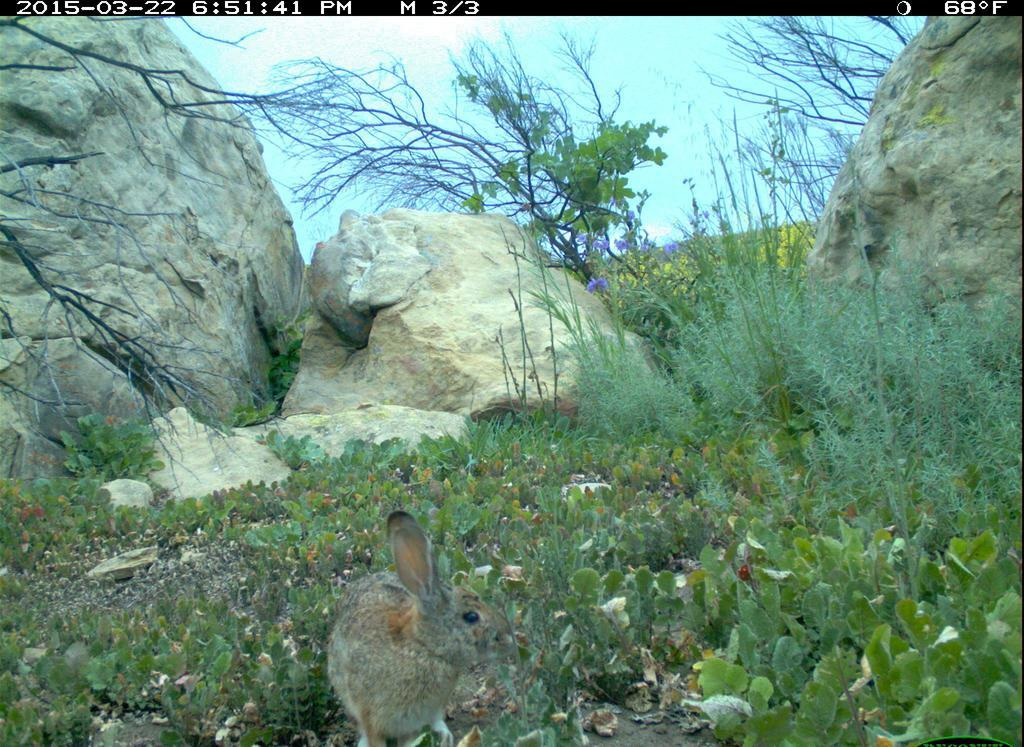rabbit: (321, 491, 521, 747)
